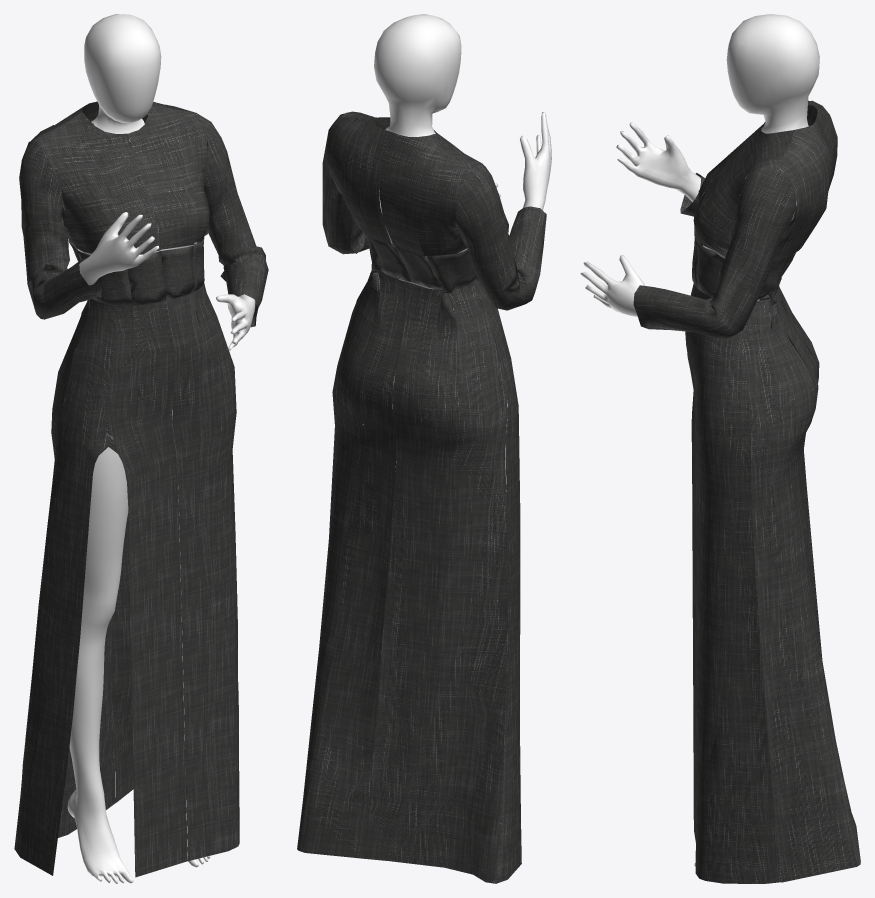
File: mannequin_with_dress.glb
3 renders of one model, left to right at view 1: azimuth 30°, elevation 25°; view 2: azimuth 150°, elevation 25°; view 3: azimuth 270°, elevation 25°, orthographic.
Visible parts, largest first — view 1: Object_21.001, Woman_Mannequin, Object_23.001; view 2: Object_21.001, Woman_Mannequin, Object_23.001; view 3: Object_21.001, Woman_Mannequin, Object_23.001.
Part boxes in pixels (x1,y1,x2,y2): Object_21.001: (14,101,268,877); Woman_Mannequin: (67,14,255,883); Object_23.001: (68,230,208,305); Object_21.001: (297,111,546,883); Woman_Mannequin: (362,14,551,476); Object_23.001: (365,234,478,294); Object_21.001: (633,100,860,883); Woman_Mannequin: (580,14,819,866); Object_23.001: (692,228,796,300).
Bounding box in the file's own units: 0.5254 × 1.92 × 0.5851.
2 materials, 1 textured.
